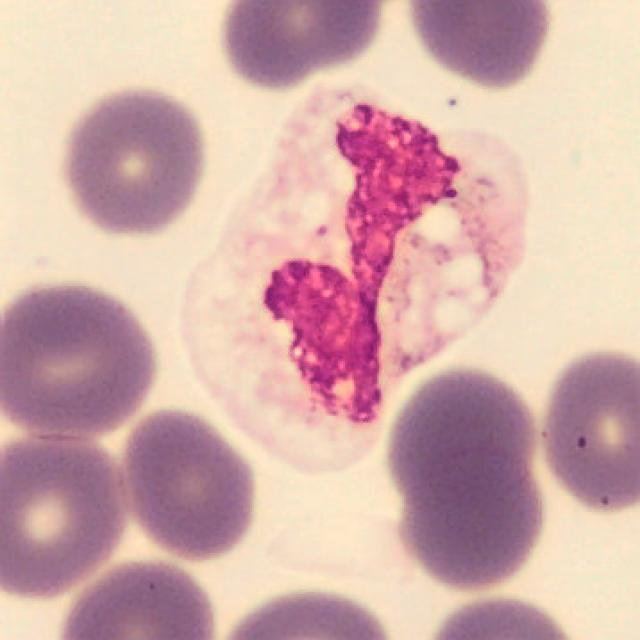Neutrofilo segmentado: (182, 84, 531, 473)
